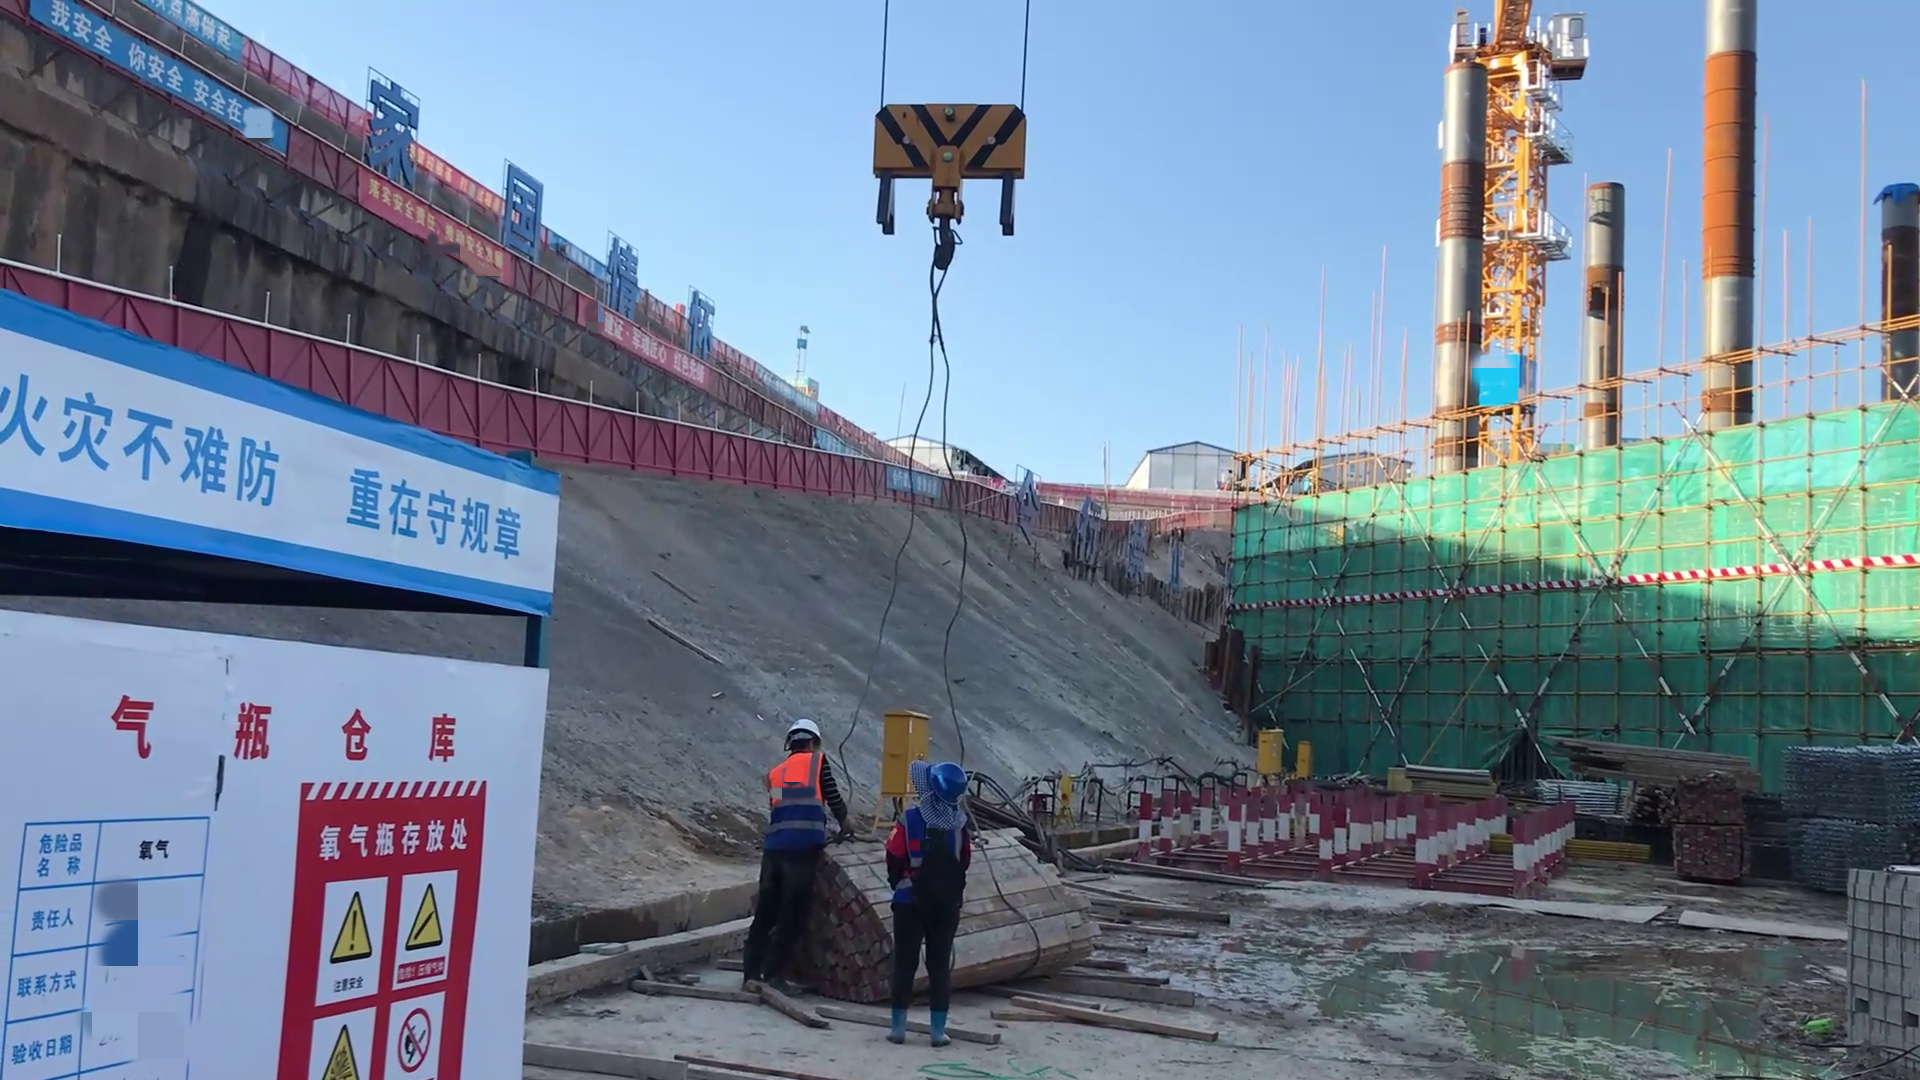brick: (1828, 853, 1919, 1080)
ebox: (880, 707, 932, 812), (1253, 727, 1285, 778), (1291, 738, 1316, 782)
fence: (693, 427, 892, 500), (534, 396, 695, 478)
helmet: (906, 750, 962, 801), (785, 715, 825, 749)
hook: (871, 101, 1022, 253)
person: (739, 712, 859, 1002), (884, 756, 966, 1034)
scaffold: (1775, 735, 1920, 840)
slogan: (1, 370, 536, 572), (284, 856, 503, 1080), (19, 1, 274, 159), (323, 142, 529, 298)
vest: (761, 751, 819, 807)
wood: (1056, 857, 1206, 1061), (960, 835, 1082, 990), (1545, 718, 1754, 808)
